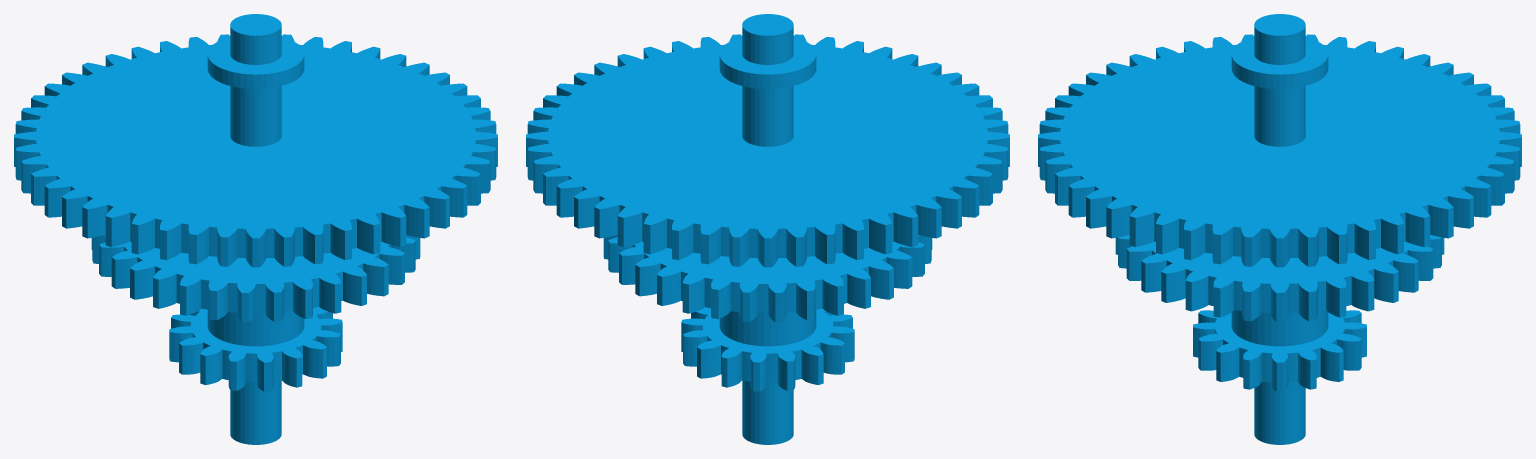
The model's file is outputshaft.glb.
3 renders of one model, left to right at view 1: azimuth 30°, elevation 25°; view 2: azimuth 150°, elevation 25°; view 3: azimuth 270°, elevation 25°, orthographic.
Parts seen in each view (by area): view 1: node_id3; view 2: node_id3; view 3: node_id3.
Boxes of the visible parts, box(x1,y1,x2,y2) form: node_id3: box(14, 14, 497, 444); node_id3: box(526, 14, 1009, 444); node_id3: box(1038, 14, 1521, 444).
Bounding box in the file's own units: 0.512 × 0.4779 × 0.512.
1 material, 1 textured.
